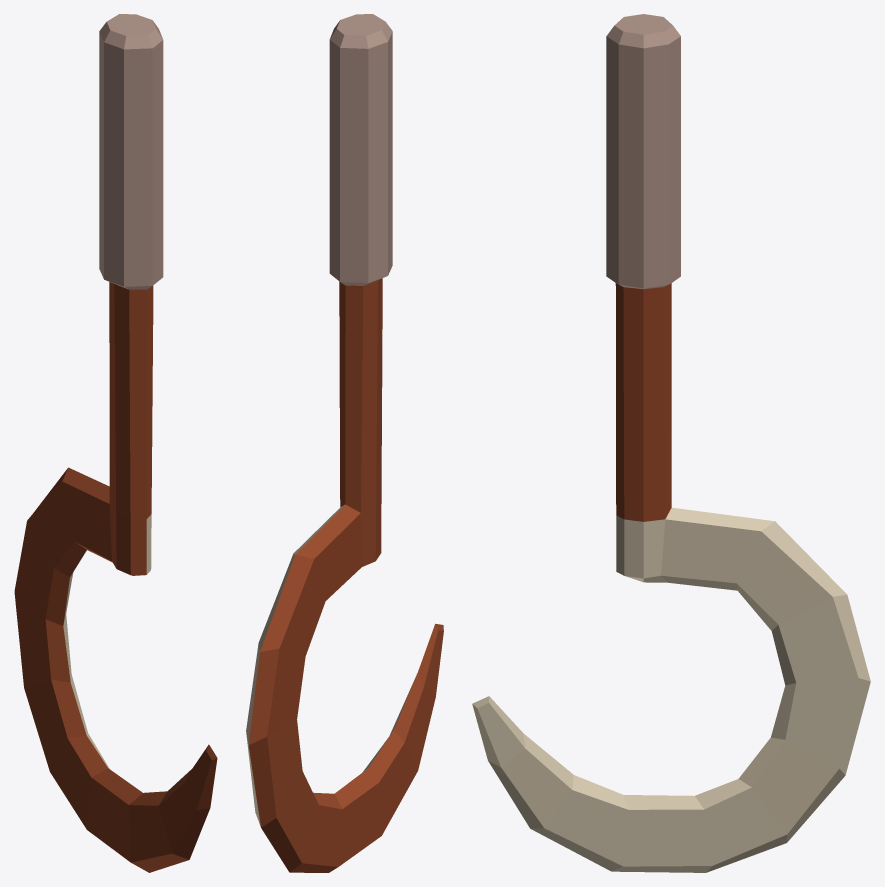
The model's file is sickle.fbx.
3 views of the same model, side by side, from view 1: azimuth 30°, elevation 25°; view 2: azimuth 150°, elevation 25°; view 3: azimuth 270°, elevation 25° (orthographic). The views are drawn at different scales.
Visible parts, largest first — view 1: sickle; view 2: sickle; view 3: sickle.
Boxes of the visible parts, x1,y1,x2,y2 form: sickle: (14,14,217,872); sickle: (246,14,443,872); sickle: (472,14,870,872).
Bounding box in the file's own units: 27.52 × 402 × 171.
